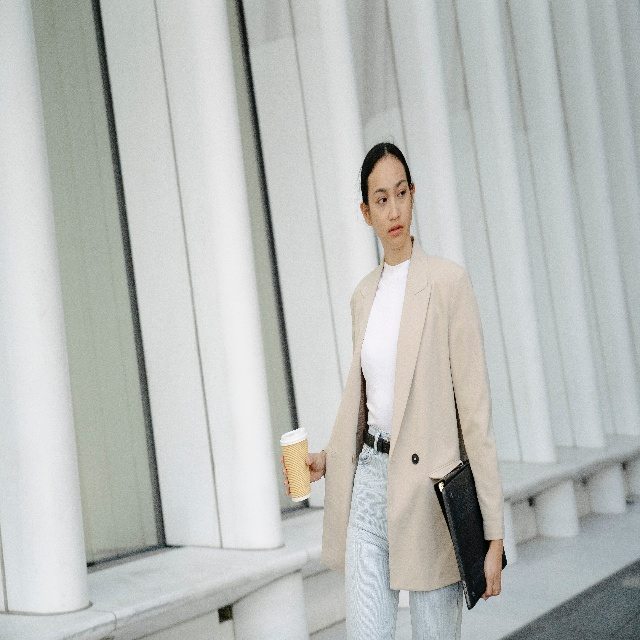Sin_guantes: (280, 451, 325, 498), (482, 544, 503, 601)
